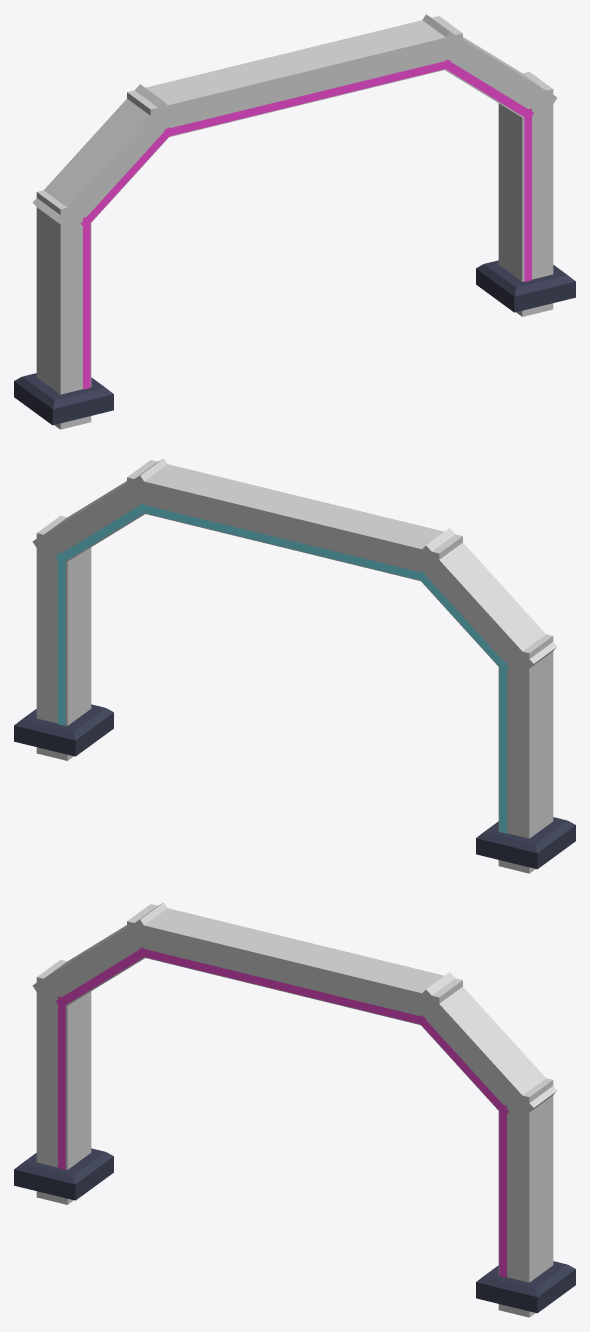
File: neon_arch.obj
3 renders of one model, top to bottom at view 1: azimuth 30°, elevation 25°; view 2: azimuth 150°, elevation 25°; view 3: azimuth 330°, elevation 25°, orthographic.
Size of the model in its own units: 20.4 by 11.29 by 2.6.
